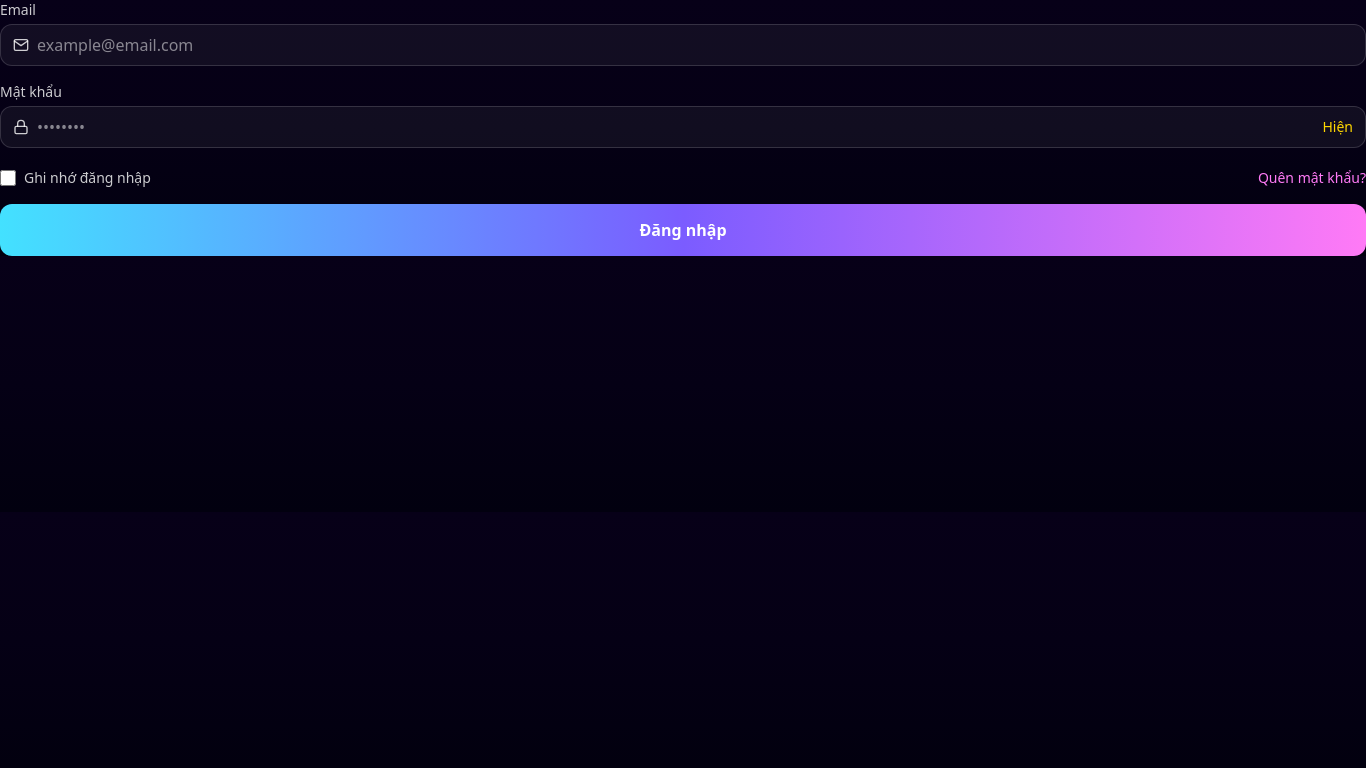
LoginFields › validates empty email
Step 1. Click the button "Đăng nhập" → {"x": 683, "y": 230}, box [0,204,1365,256]
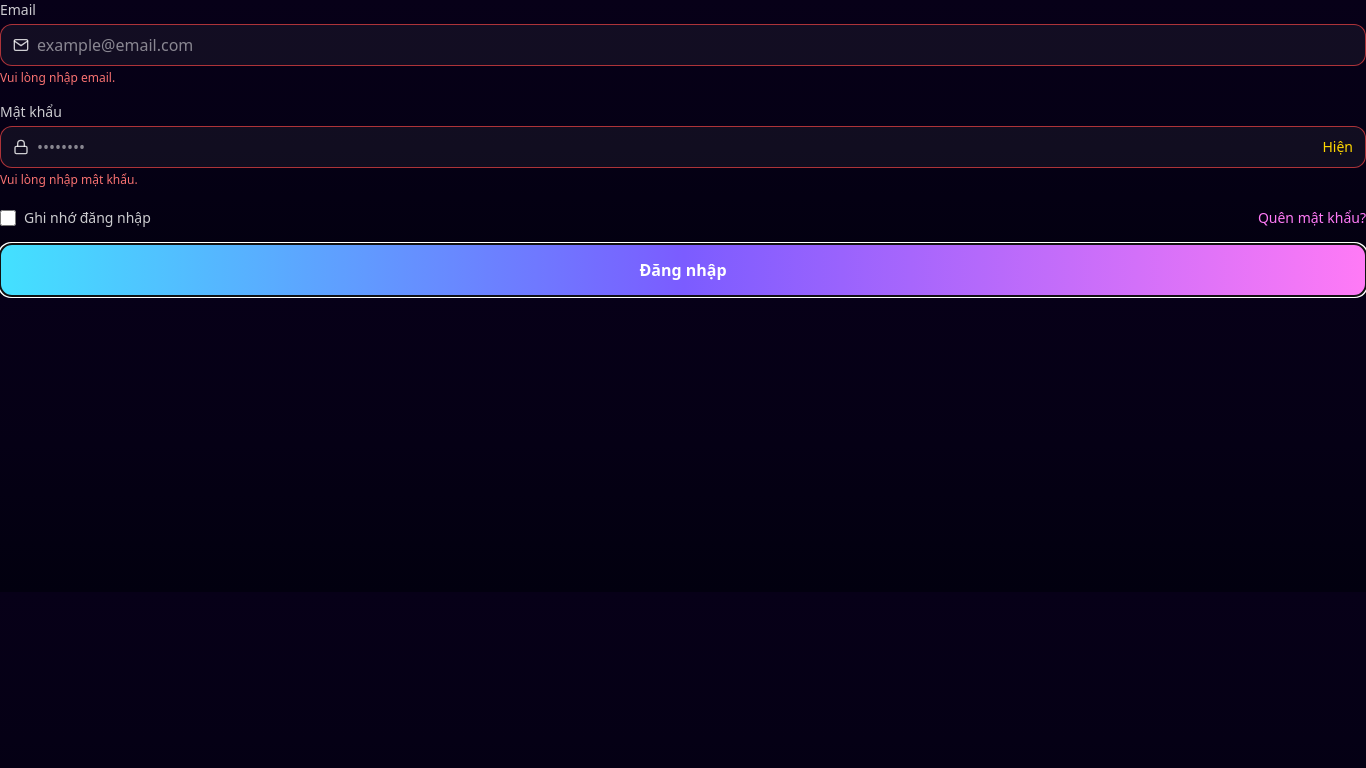
Now the text "Vui lòng nhập email." is shown, box [0,69,115,86]
